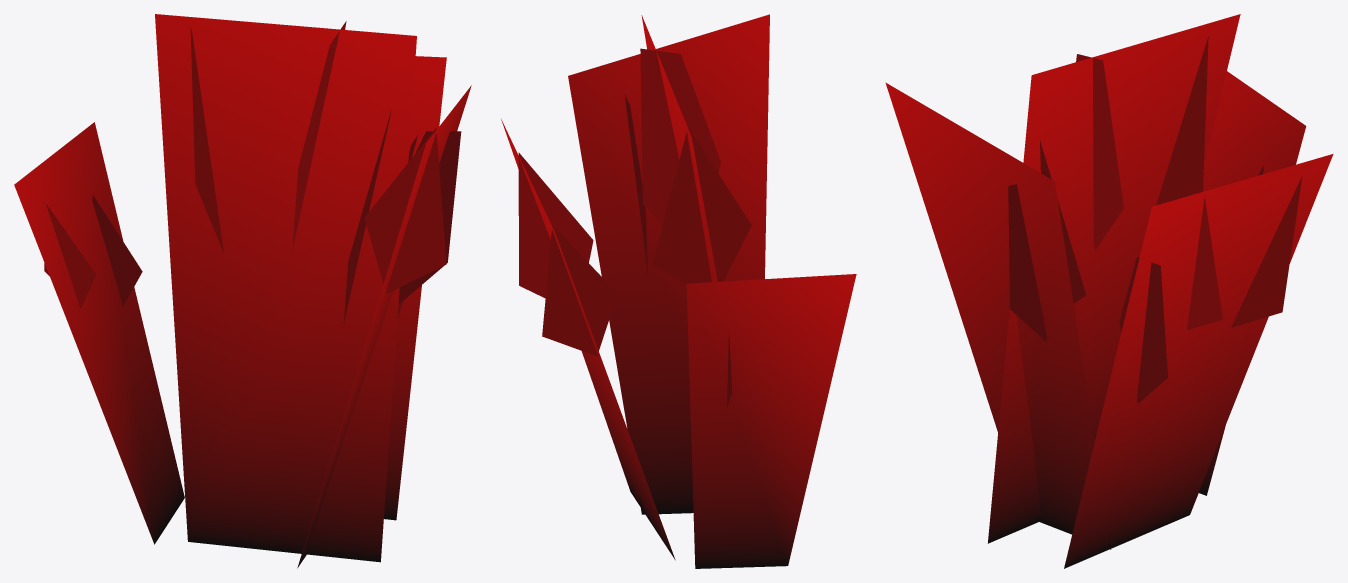
The model's file is Lupin2.fbx.
3 views of the same model, side by side, from view 1: azimuth 30°, elevation 25°; view 2: azimuth 150°, elevation 25°; view 3: azimuth 270°, elevation 25° (orthographic). The views are drawn at different scales.
Visible parts, largest first — view 1: Lupin2; view 2: Lupin2; view 3: Lupin2.
Boxes of the visible parts, box(x1,y1,x2,y2) form: Lupin2: box(14, 14, 471, 568); Lupin2: box(501, 14, 856, 568); Lupin2: box(885, 14, 1333, 568).
Bounding box in the file's own units: 36.33 × 42.83 × 34.7.
